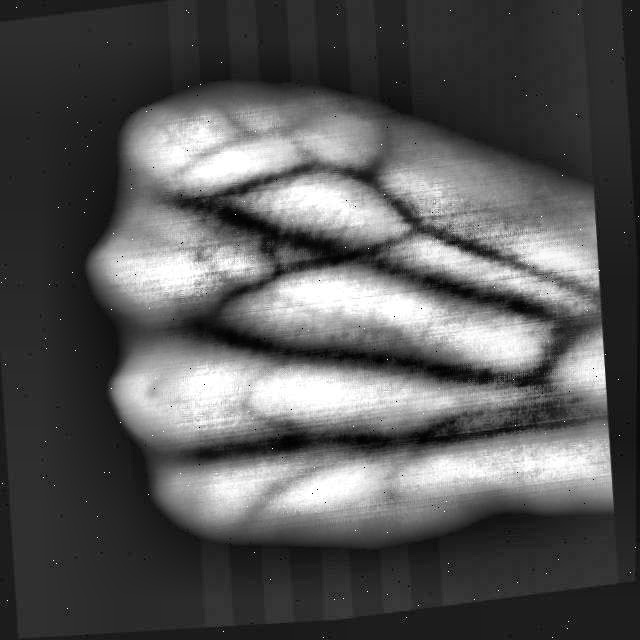Vein: (373, 253, 583, 340), (278, 336, 505, 392), (325, 409, 568, 456)
